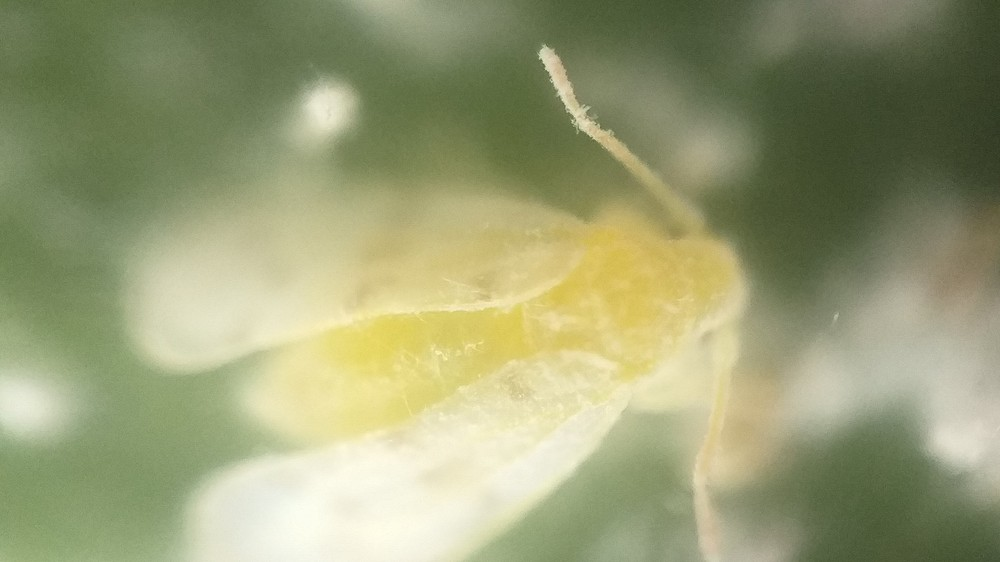Mosca Blanca: (129, 41, 769, 556)
